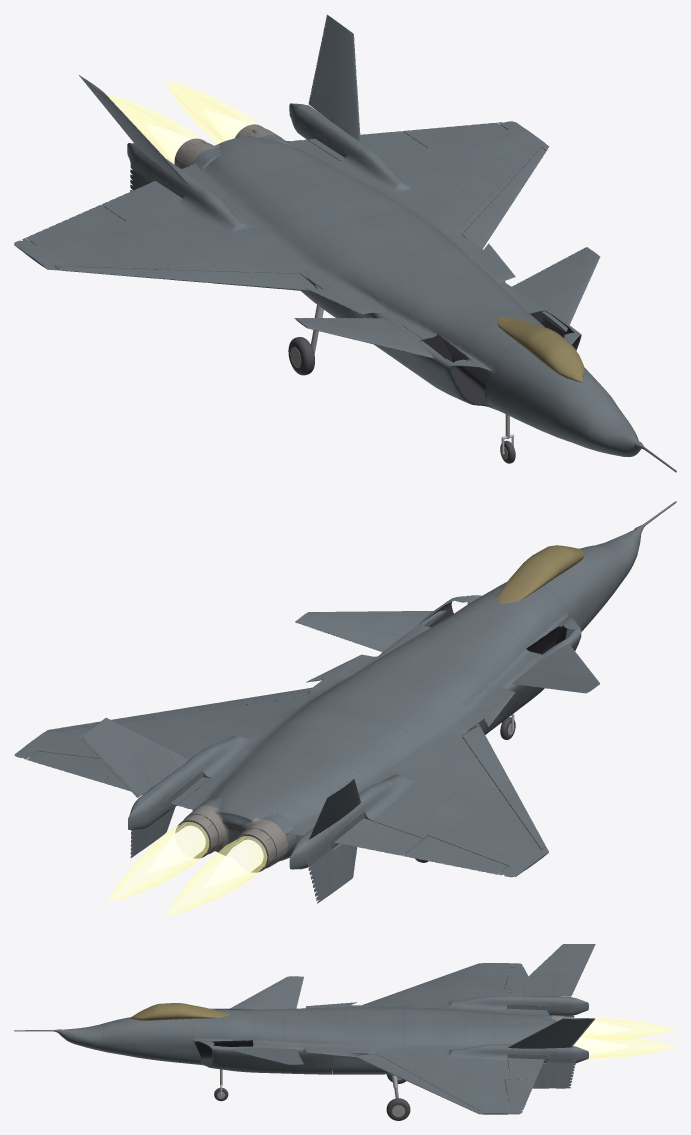
3 views of the same model, one above another, from view 1: azimuth 30°, elevation 25°; view 2: azimuth 150°, elevation 25°; view 3: azimuth 270°, elevation 25° (orthographic). The views are drawn at different scales.
Visible parts, largest first — view 1: airframe, fsim:elevator@-20,50 (×2), fsim:rudder (×2), fsim:lef@-3,25 (×2), fsim:afterburner:0, fsim:afterburner:1, fsim:elevator+aileron:-1@-25,25, fsim:aileron+flaps:-1@-25,25, fsim:elevator+aileron:1@-25,25, fsim:aileron+flaps:1@-25,25, fsim:wheel:2:0.435; view 2: airframe, fsim:elevator@-20,50 (×2), fsim:rudder (×2), fsim:afterburner:0, fsim:afterburner:1, fsim:lef@-3,25 (×2), fsim:aileron+flaps:-1@-25,25, fsim:elevator+aileron:-1@-25,25, fsim:elevator+aileron:1@-25,25; view 3: airframe, fsim:rudder (×2), fsim:elevator@-20,50 (×2), fsim:afterburner:0, fsim:lef@-3,25 (×2), fsim:afterburner:1, fsim:gear:90:0:0.2, fsim:aileron+flaps:1@-25,25, fsim:elevator+aileron:1@-25,25, fsim:wheel:1:0.435, fsim:elevator+aileron:-1@-25,25.
Part boxes in pixels (left/top/right/bottom): airframe: left=14, top=103, right=676, bottom=472; fsim:elevator@-20,50 (×2): left=294, top=247, right=600, bottom=358; fsim:rudder (×2): left=79, top=14, right=360, bottom=183; fsim:lef@-3,25 (×2): left=55, top=147, right=545, bottom=291; fsim:afterburner:0: left=165, top=81, right=257, bottom=144; fsim:afterburner:1: left=108, top=95, right=199, bottom=164; fsim:elevator+aileron:-1@-25,25: left=26, top=205, right=125, bottom=245; fsim:aileron+flaps:-1@-25,25: left=102, top=181, right=182, bottom=218; fsim:elevator+aileron:1@-25,25: left=403, top=122, right=507, bottom=147; fsim:aileron+flaps:1@-25,25: left=308, top=131, right=422, bottom=160; fsim:wheel:2:0.435: left=288, top=337, right=314, bottom=375; airframe: left=14, top=501, right=676, bottom=903; fsim:elevator@-20,50 (×2): left=295, top=610, right=599, bottom=693; fsim:rudder (×2): left=80, top=717, right=360, bottom=839; fsim:afterburner:0: left=108, top=821, right=209, bottom=901; fsim:afterburner:1: left=166, top=836, right=267, bottom=915; fsim:lef@-3,25 (×2): left=56, top=687, right=545, bottom=849; fsim:aileron+flaps:-1@-25,25: left=334, top=818, right=423, bottom=855; fsim:elevator+aileron:-1@-25,25: left=403, top=836, right=507, bottom=874; fsim:elevator+aileron:1@-25,25: left=27, top=751, right=113, bottom=782; airframe: left=14, top=963, right=588, bottom=1114; fsim:rudder (×2): left=508, top=944, right=595, bottom=1048; fsim:elevator@-20,50 (×2): left=229, top=976, right=303, bottom=1064; fsim:afterburner:0: left=573, top=1034, right=676, bottom=1059; fsim:lef@-3,25 (×2): left=355, top=965, right=478, bottom=1111; fsim:afterburner:1: left=573, top=1016, right=676, bottom=1040; fsim:gear:90:0:0.2: left=332, top=1055, right=391, bottom=1074; fsim:aileron+flaps:1@-25,25: left=508, top=1058, right=544, bottom=1080; fsim:elevator+aileron:1@-25,25: left=504, top=1079, right=535, bottom=1108; fsim:wheel:1:0.435: left=386, top=1098, right=410, bottom=1120; fsim:elevator+aileron:-1@-25,25: left=504, top=967, right=528, bottom=989.
Size of the model in its own units: 13.01 by 4.88 by 24.24.
9 materials, 1 textured.
